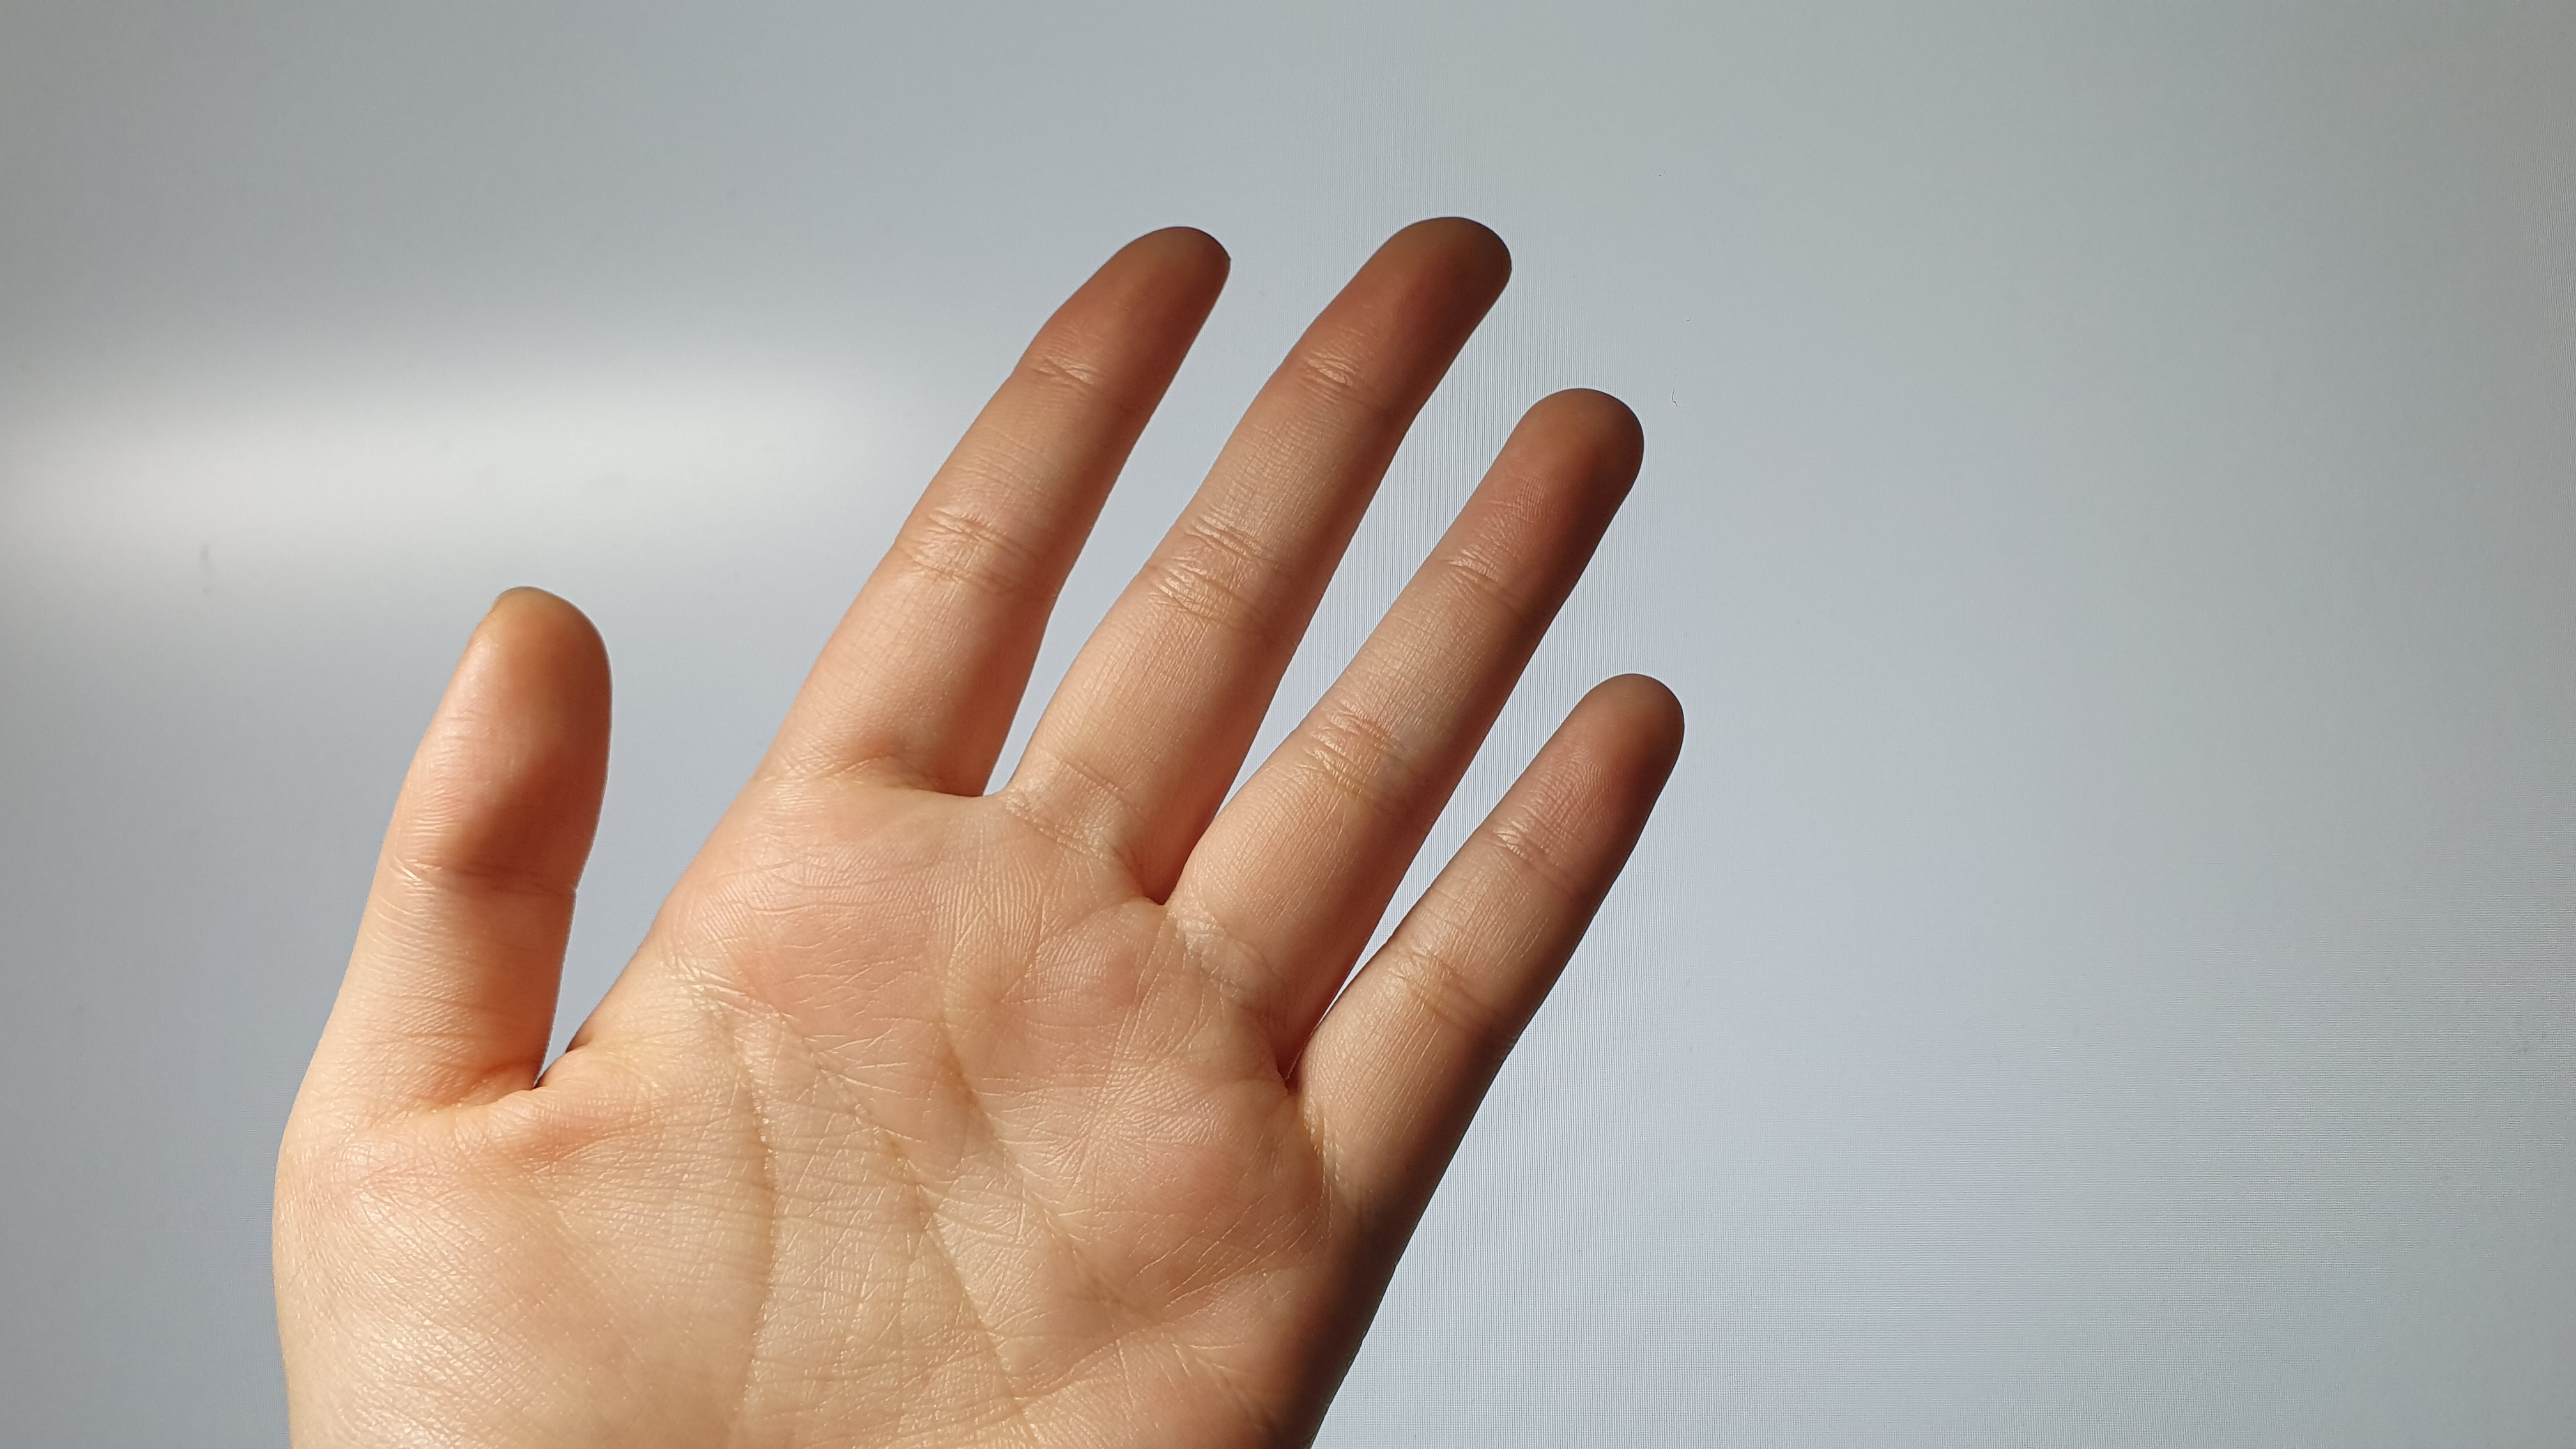hand: (271, 202, 1688, 1449)
index finger: (770, 221, 1244, 821)
middle finger: (991, 189, 1529, 911)
palm: (249, 757, 1322, 1449)
pinky: (1274, 672, 1695, 1207)
ring finger: (1185, 379, 1672, 984)
thumb: (310, 570, 648, 1118)
